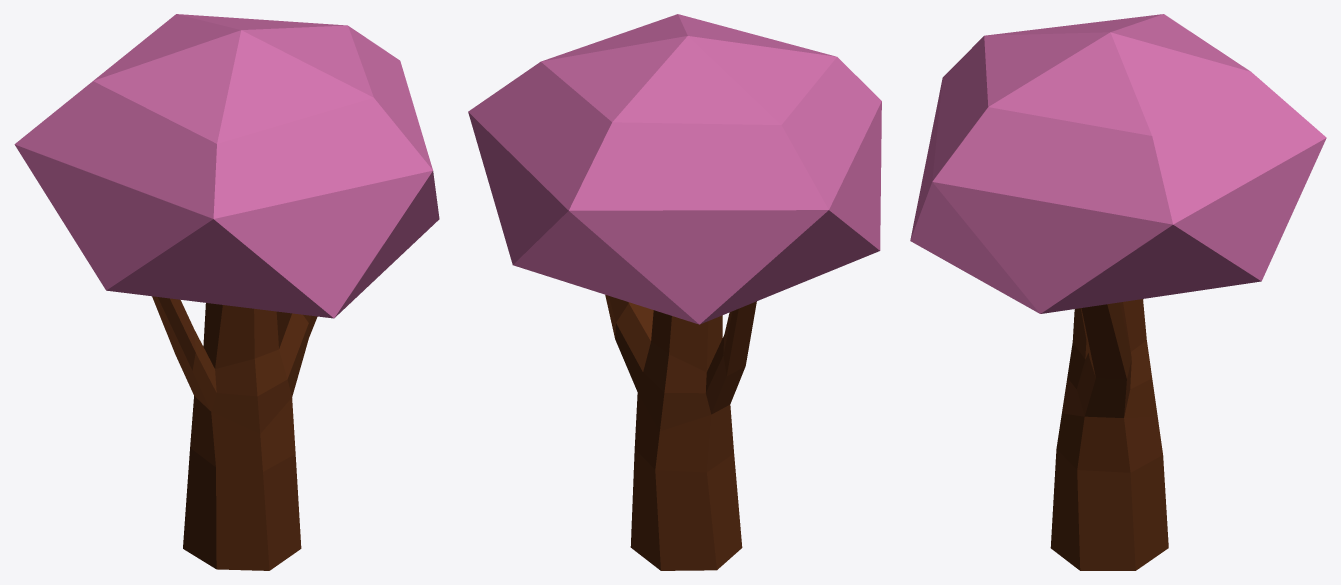
Rendered from T_CherryBlossom2.fbx.
3 renders of one model, left to right at view 1: azimuth 30°, elevation 25°; view 2: azimuth 150°, elevation 25°; view 3: azimuth 270°, elevation 25°, orthographic.
Parts seen in each view (by area): view 1: Cylinder; view 2: Cylinder; view 3: Cylinder.
Part boxes in pixels (x1,y1,x2,y2): Cylinder: (14,14,439,570); Cylinder: (468,14,881,570); Cylinder: (910,14,1326,570).
Bounding box in the file's own units: 5.22 × 6.89 × 5.03.
